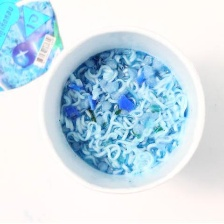paper_cup: (34, 23, 212, 199)
